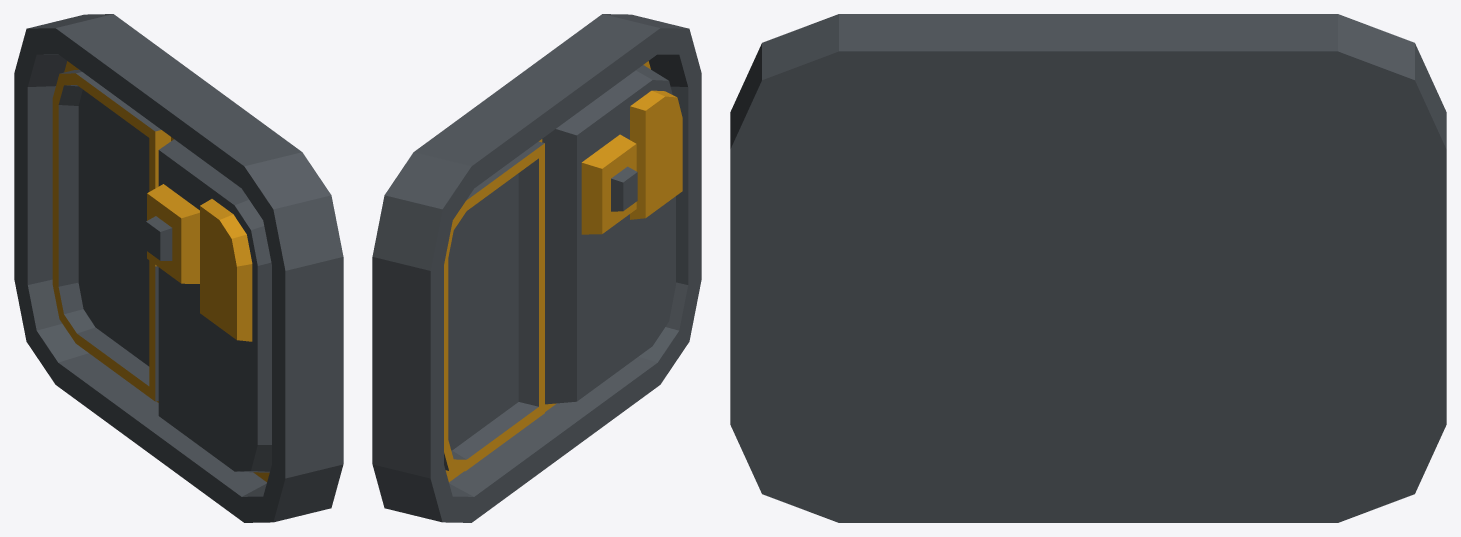
File: Fighter_04_Detail_1_Yellow.fbx
3 renders of one model, left to right at view 1: azimuth 30°, elevation 25°; view 2: azimuth 150°, elevation 25°; view 3: azimuth 270°, elevation 25°, orthographic. The views are drawn at different scales.
Visible parts, largest first — view 1: Fighter_04_Detail_1_Yellow; view 2: Fighter_04_Detail_1_Yellow; view 3: Fighter_04_Detail_1_Yellow.
Boxes of the visible parts, x1,y1,x2,y2 form: Fighter_04_Detail_1_Yellow: [14, 14, 343, 522]; Fighter_04_Detail_1_Yellow: [372, 14, 701, 522]; Fighter_04_Detail_1_Yellow: [730, 14, 1446, 522].
Size of the model in its own units: 23.28 by 89.56 by 123.
2 materials, 2 textured.
